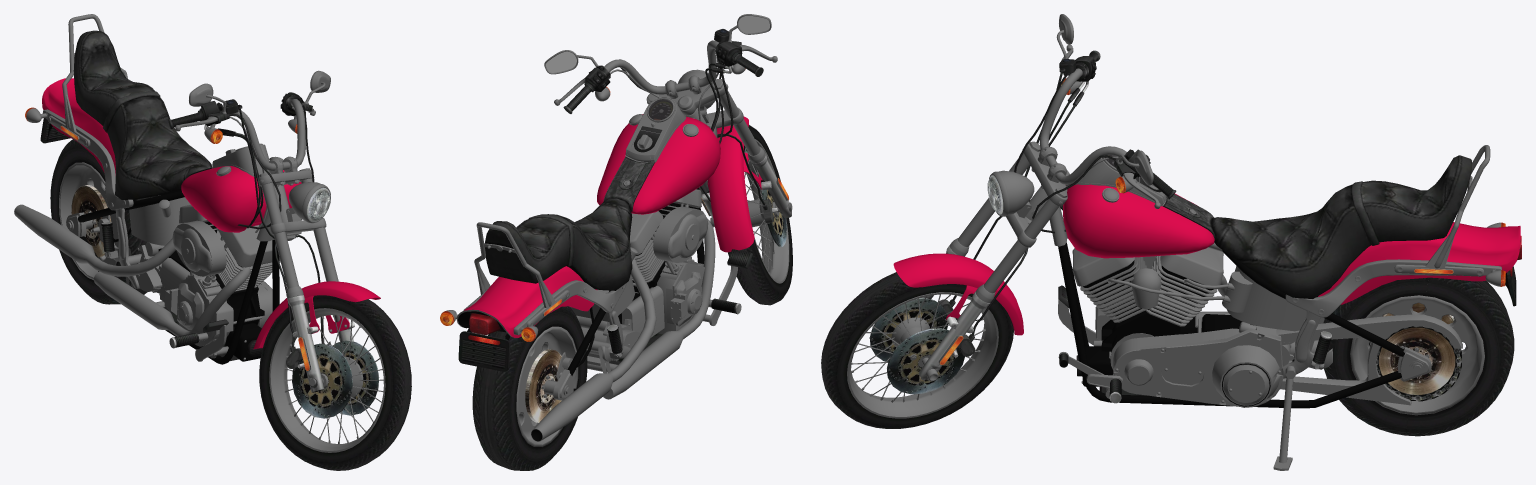
3 renders of one model, left to right at view 1: azimuth 30°, elevation 25°; view 2: azimuth 150°, elevation 25°; view 3: azimuth 270°, elevation 25°, orthographic. The views are drawn at different scales.
Parts seen in each view (by area): view 1: body, wheel_F, wheel_R, wheel_F_fix; view 2: body, wheel_R, wheel_F, wheel_F_fix; view 3: body, wheel_R, wheel_F, wheel_F_fix.
Boxes of the visible parts, <box> form: body: <box>14,14,411,470</box>; wheel_F: <box>259,295,385,452</box>; wheel_R: <box>59,125,157,304</box>; wheel_F_fix: <box>216,143,330,298</box>; body: <box>440,14,792,470</box>; wheel_R: <box>516,284,624,453</box>; wheel_F: <box>699,139,792,301</box>; wheel_F_fix: <box>629,69,765,163</box>; body: <box>821,14,1521,470</box>; wheel_R: <box>1285,266,1484,435</box>; wheel_F: <box>847,245,1013,418</box>; wheel_F_fix: <box>949,141,1138,256</box>.
Size of the model in its own units: 0.7959 by 1.35 by 2.26.
Materials: 5 (3 with a texture image).
